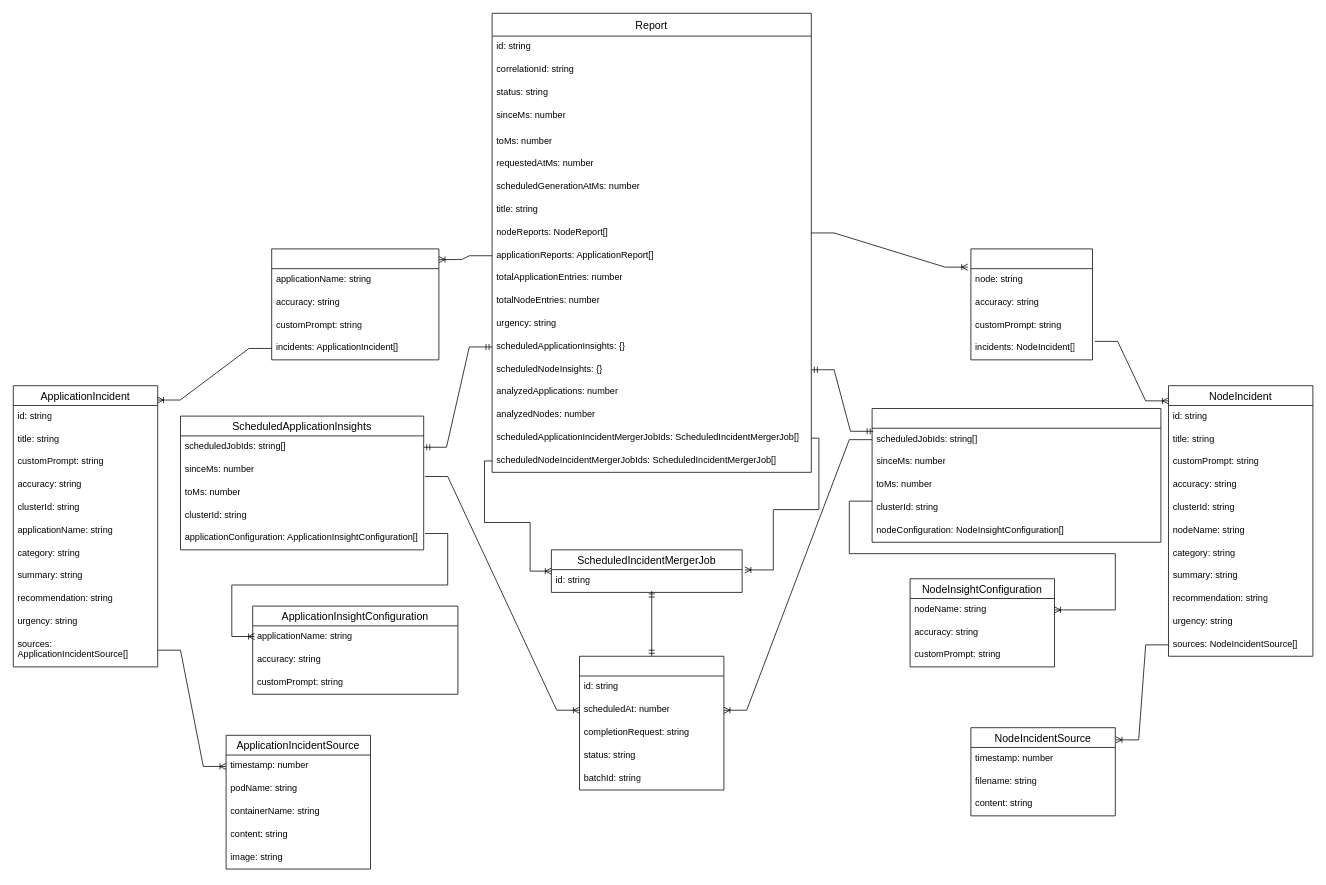
Some shapes in this 1326 by 885 pixel diagram are drawn without their labels. The shapes that lost their labels are listed below. From the top down, each one's box as (x1, y1, x2, y2) in pixels, then its label:
(271, 248, 439, 360): ApplicationReport
(970, 248, 1092, 360): NodeReport
(871, 408, 1161, 542): ScheduledNodeInsights
(579, 656, 724, 790): ScheduledOpenAiJob
